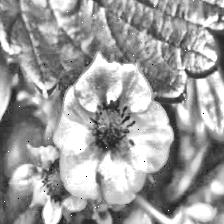Blossom Blight: (85, 96, 139, 158)
